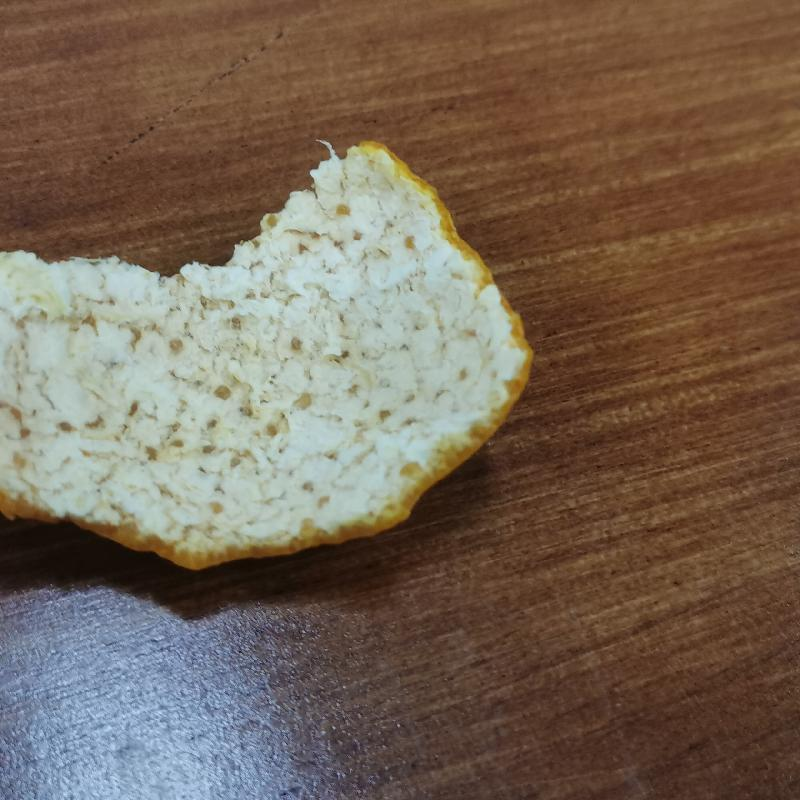orange: (5, 138, 532, 572)
